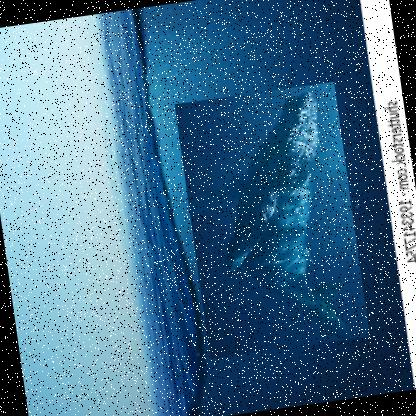blue_whale: (174, 81, 370, 359)
